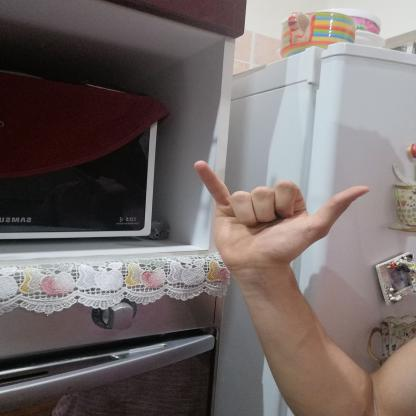YA: (179, 147, 382, 280)
